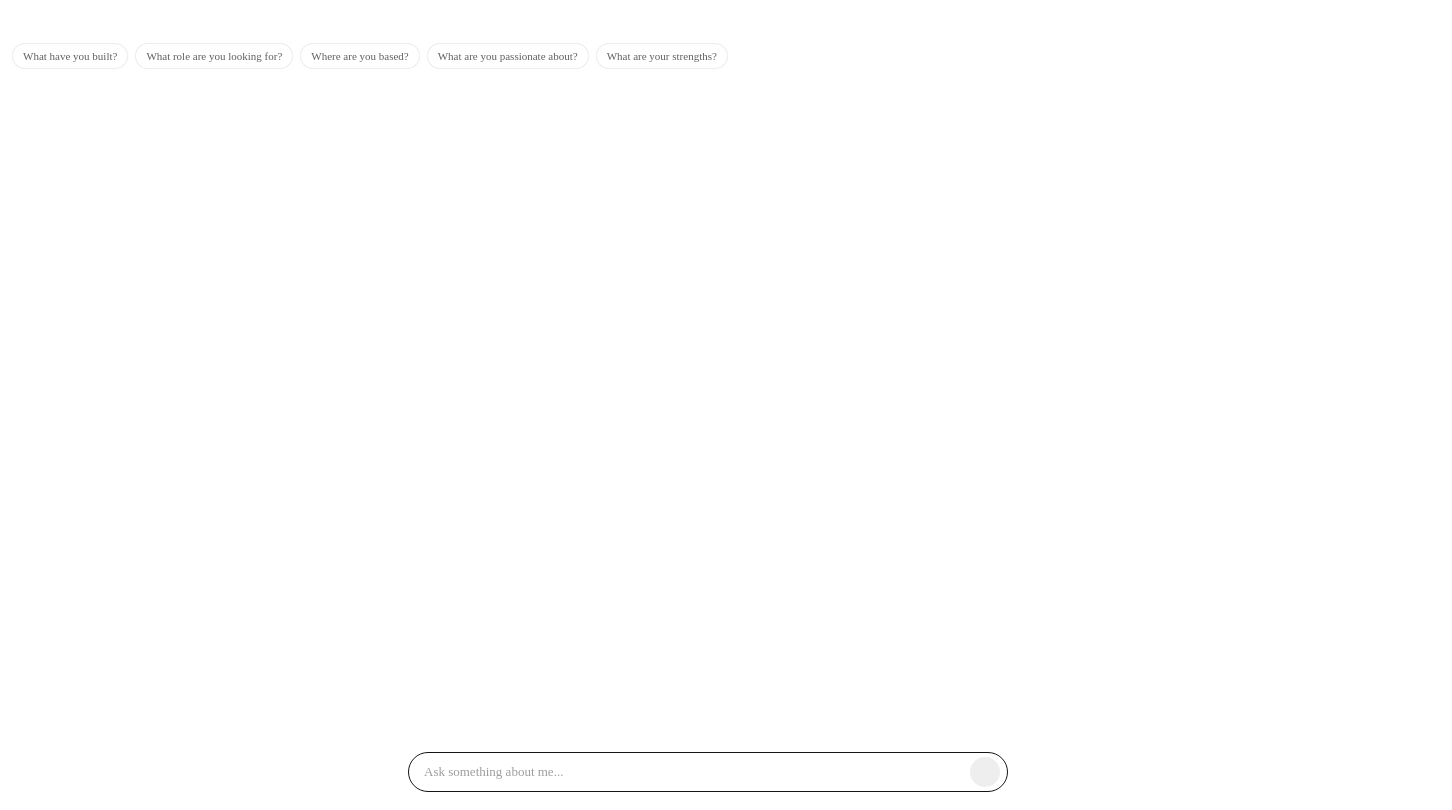
Scenario: QuestionPreview › sends a question and displays the answer
The image size is (1452, 810).
Type "What did Tim build?" into the field named "Ask a question about Timothee".
click(697, 772); type("What did Tim build?")  # box [424, 756, 970, 788]
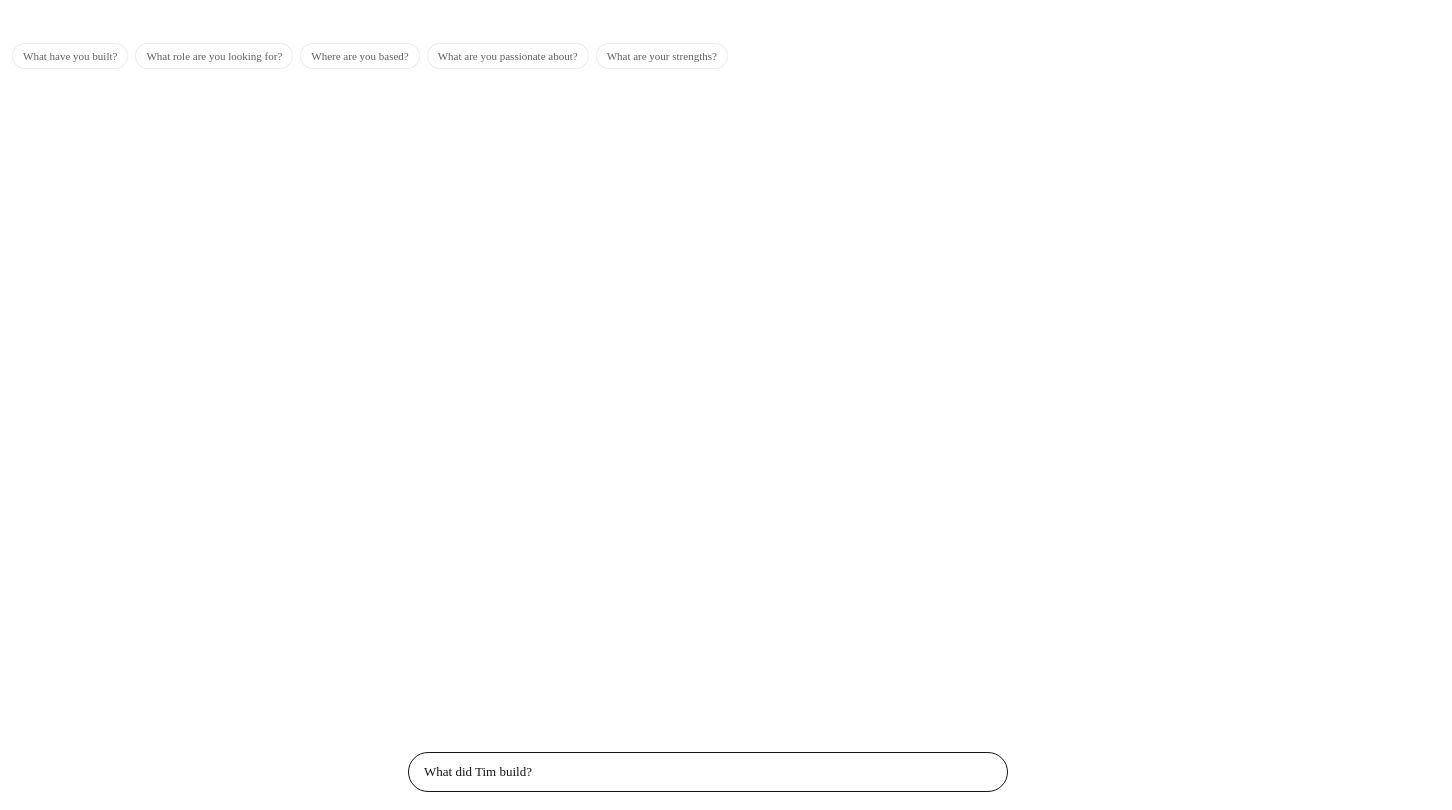
Click the button named "Send question".
click(985, 772)  # box [970, 757, 1000, 787]
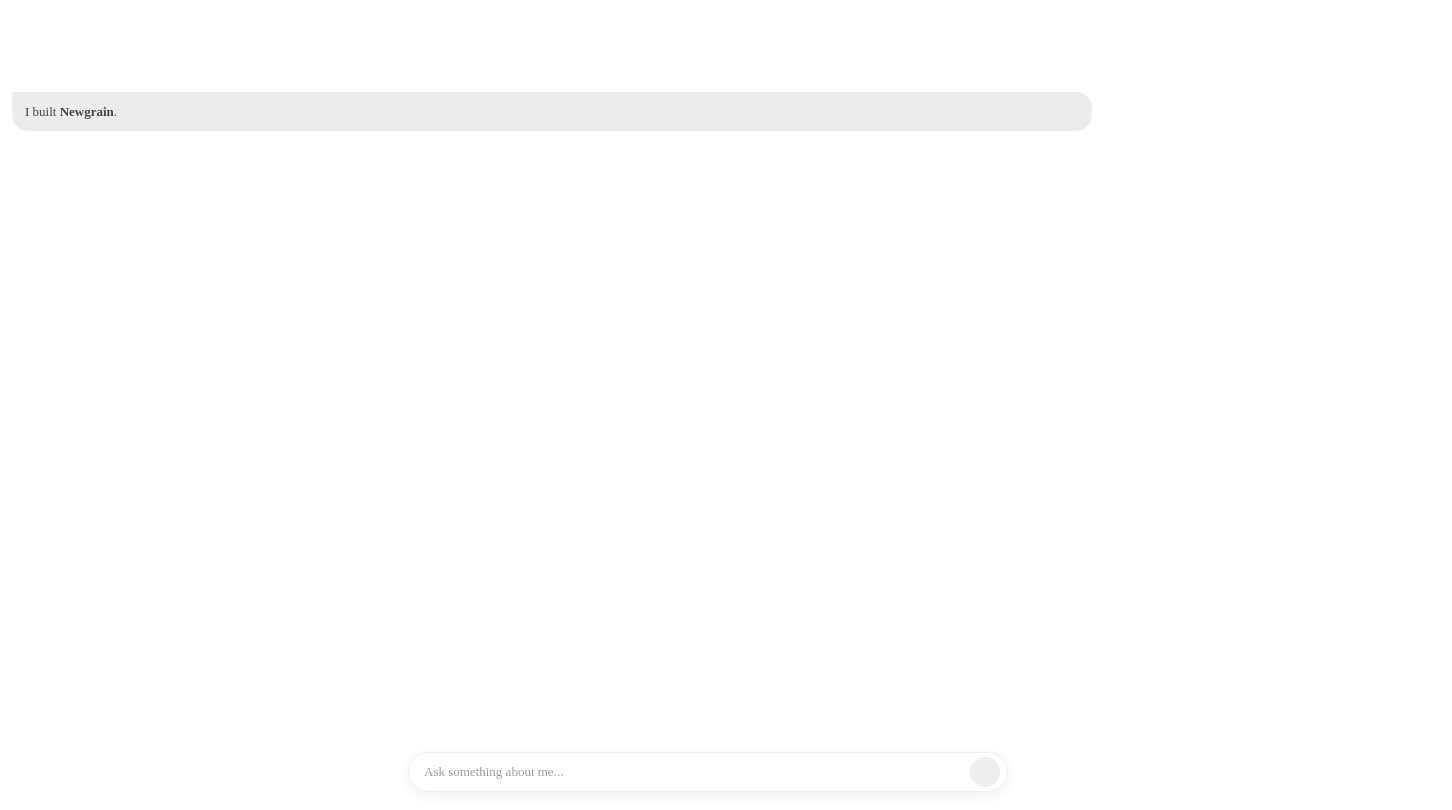
Expected: the text "Newgrain" reads "I built Newgrain.", [12, 92, 1092, 131]
